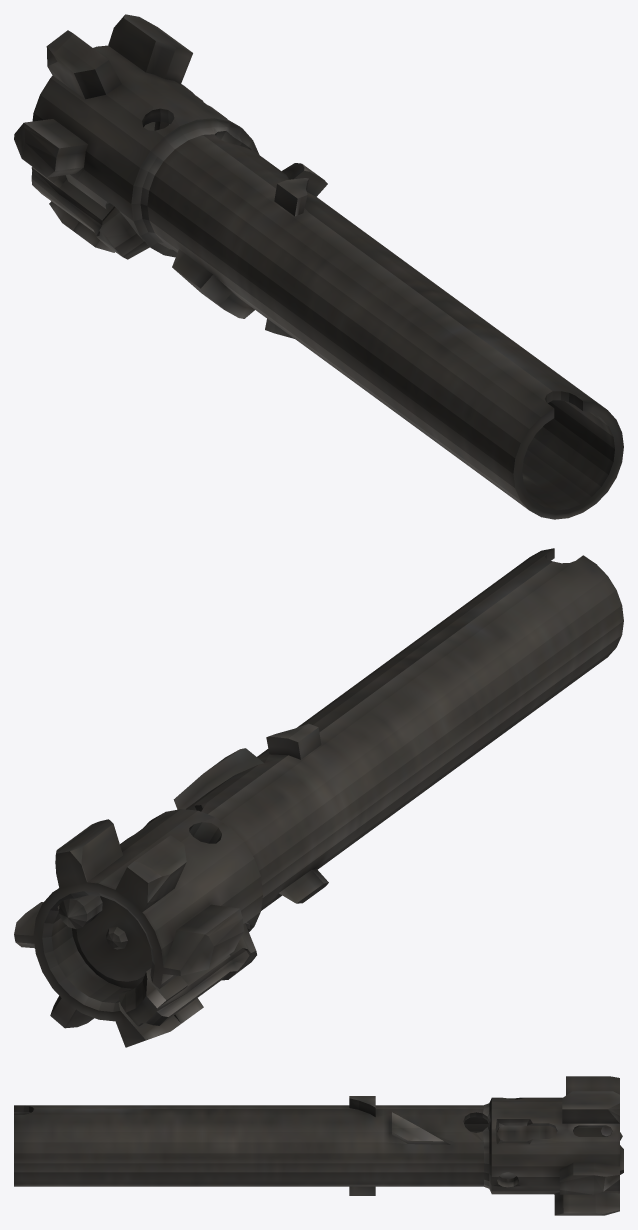
3 views of the same model, one above another, from view 1: azimuth 30°, elevation 25°; view 2: azimuth 150°, elevation 25°; view 3: azimuth 270°, elevation 25° (orthographic). The views are drawn at different scales.
Parts seen in each view (by area): view 1: TW_57838ad32459774a17445cd2_PZ_Import; view 2: TW_57838ad32459774a17445cd2_PZ_Import; view 3: TW_57838ad32459774a17445cd2_PZ_Import.
Boxes of the visible parts, x1,y1,x2,y2 form: TW_57838ad32459774a17445cd2_PZ_Import: (14, 14, 623, 519); TW_57838ad32459774a17445cd2_PZ_Import: (14, 548, 623, 1047); TW_57838ad32459774a17445cd2_PZ_Import: (14, 1076, 623, 1215).
Size of the model in its own units: 0.0124 by 0.0544 by 0.0121.
1 material, 1 textured.
